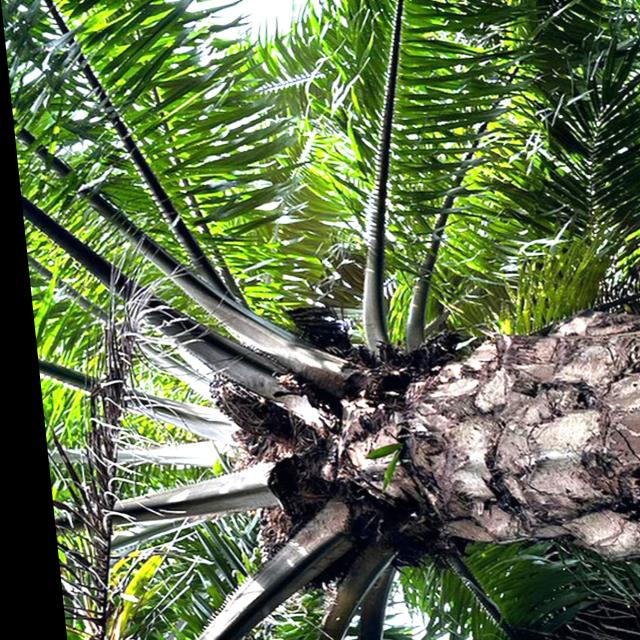almost: (235, 503, 312, 597), (193, 364, 271, 436)
